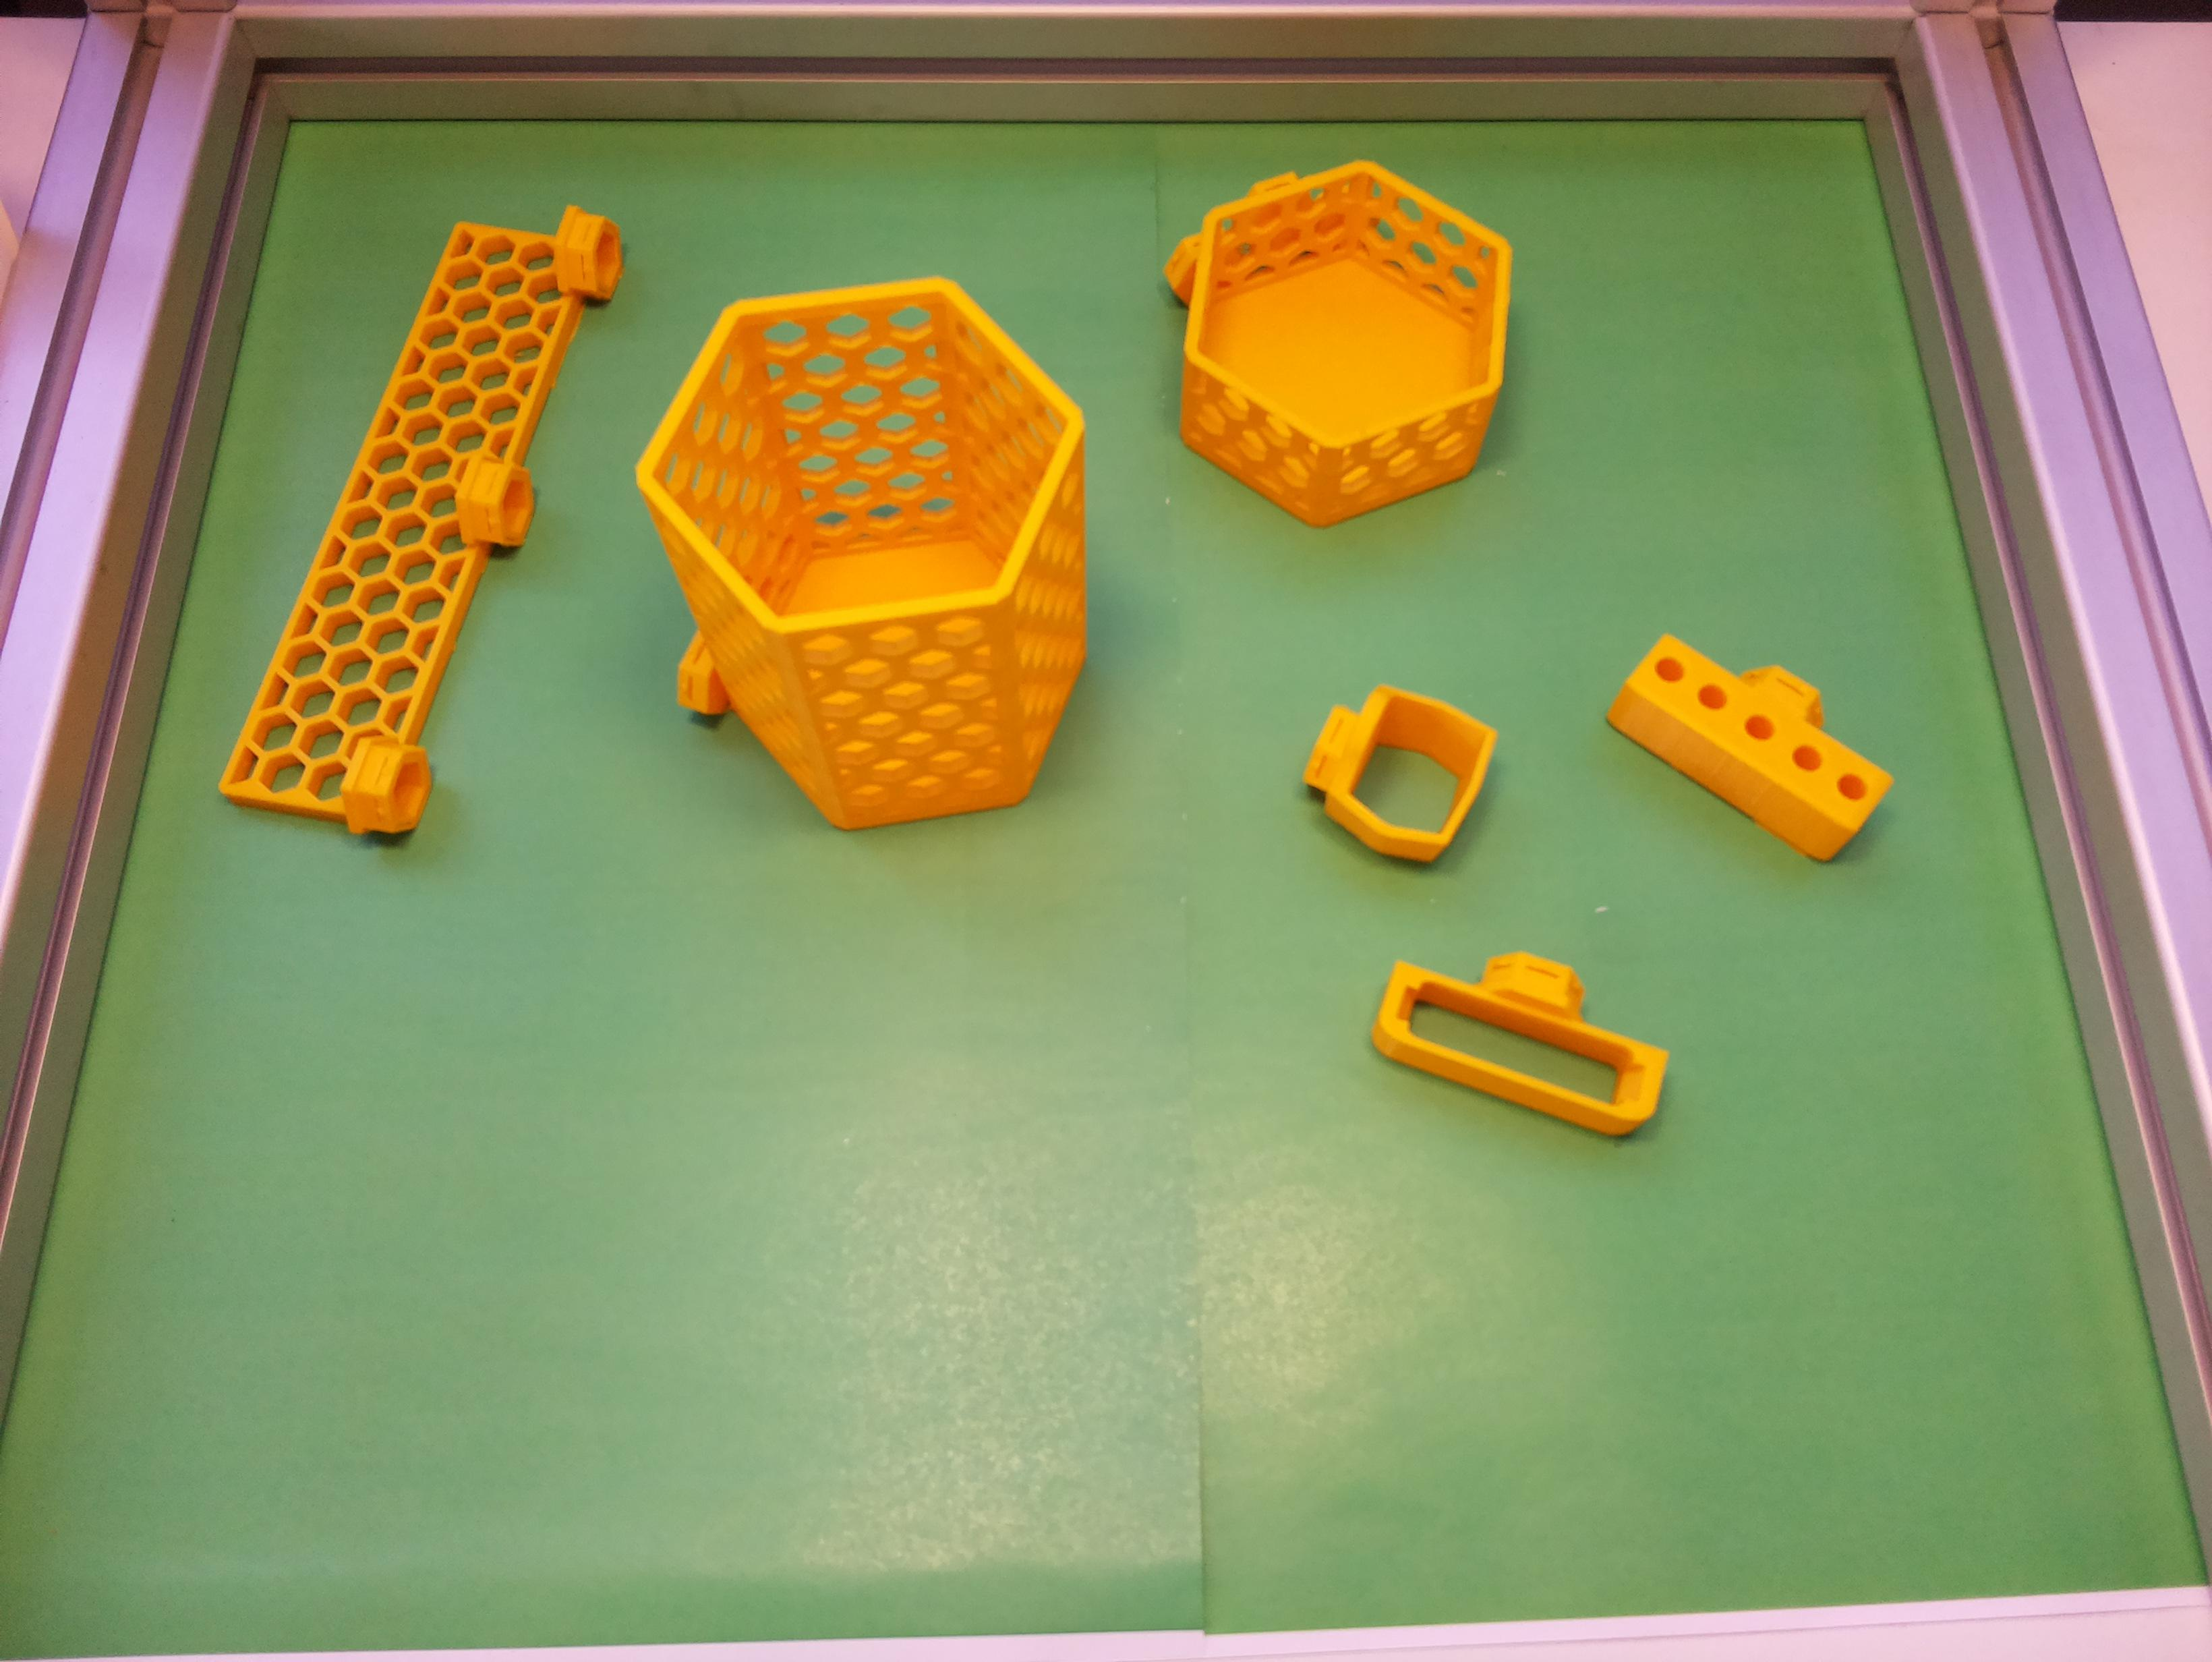bit_holder: (1601, 597, 1912, 875)
bottle_holder: (1159, 152, 1529, 534)
cup_holder: (615, 255, 1138, 852)
cutter_holder: (1364, 911, 1692, 1152)
scissor_holder: (1287, 663, 1505, 878)
tool_holder: (215, 161, 641, 866)
